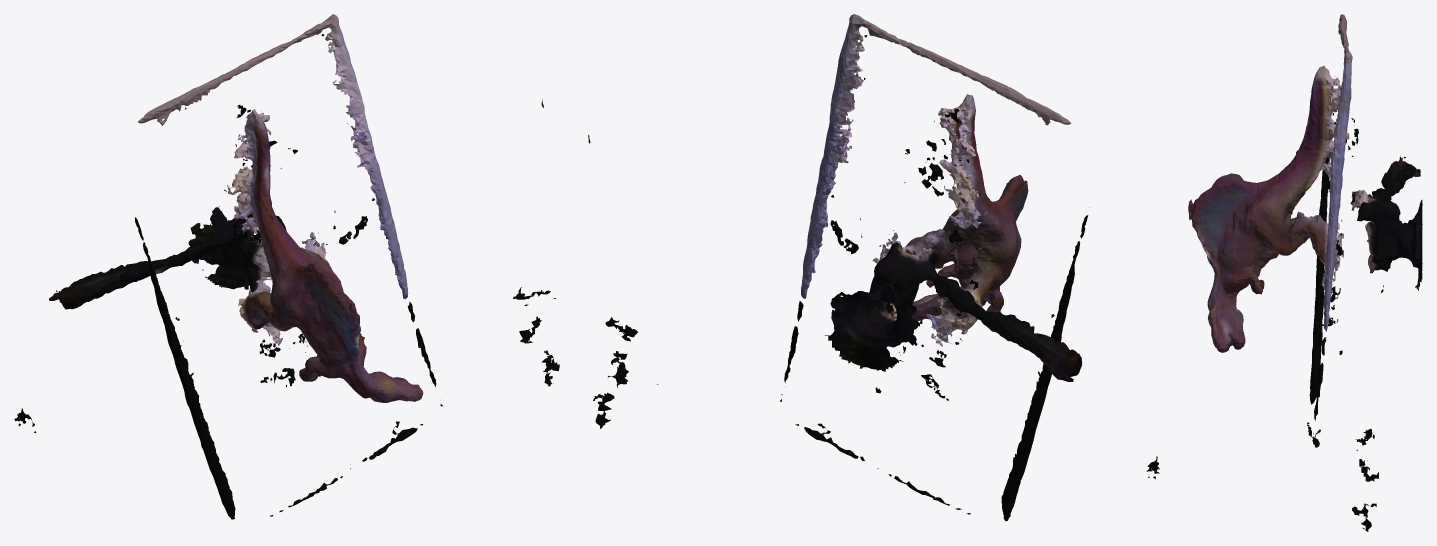
Rendered from dino.obj.
The picture shows the model from 3 angles, left to right: view 1: azimuth 30°, elevation 25°; view 2: azimuth 150°, elevation 25°; view 3: azimuth 270°, elevation 25°; orthographic projection. The views are drawn at different scales.
Bounding box in the file's own units: 22.8 × 19.41 × 9.89.
1 material, 1 textured.
